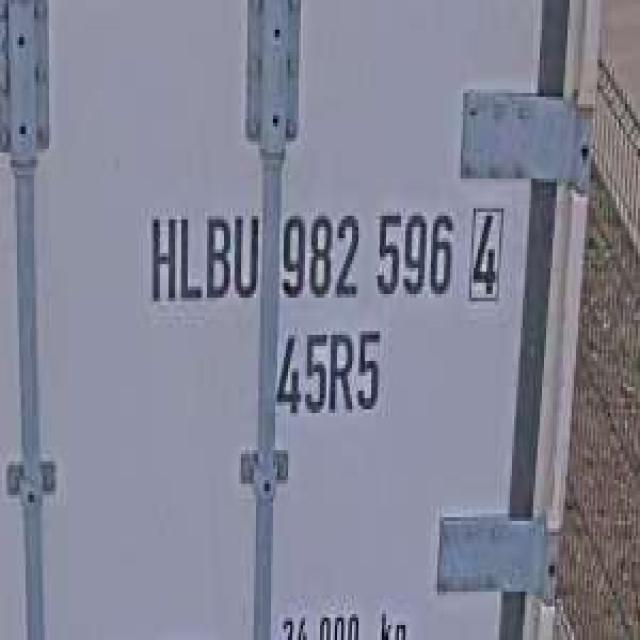dv: (463, 197, 508, 309)
owner: (141, 197, 262, 309)
serial: (273, 197, 457, 305)
size: (271, 316, 388, 424)
